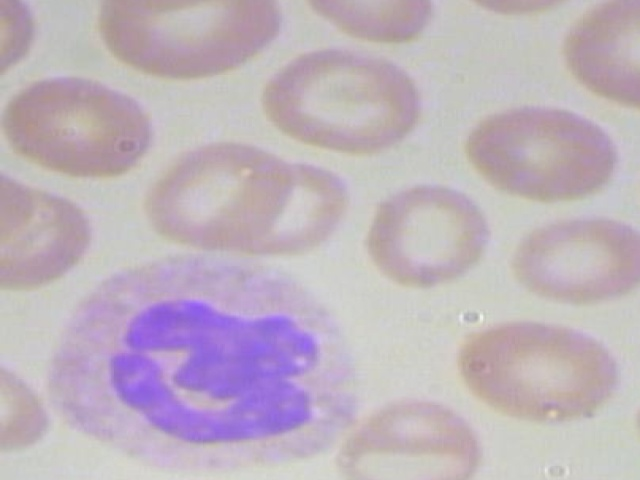RBC: (250, 41, 435, 167), (125, 141, 306, 256), (440, 317, 621, 421), (461, 97, 625, 205), (0, 73, 159, 179), (89, 0, 286, 83), (353, 180, 495, 290), (333, 381, 487, 480), (499, 209, 640, 311), (555, 0, 640, 109), (279, 0, 442, 48), (0, 350, 56, 453), (0, 0, 48, 96), (0, 155, 39, 260), (627, 366, 640, 480), (634, 120, 640, 238)
WBC: (38, 246, 384, 477)
